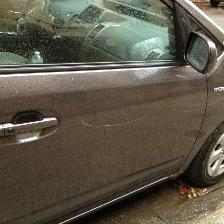scrach: (87, 122, 112, 129)
